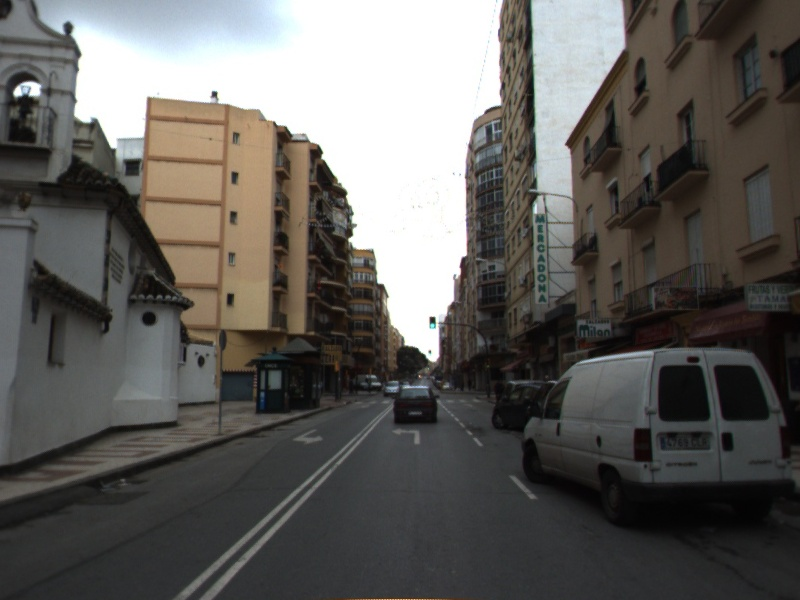LEFT: (390, 426, 422, 446)
